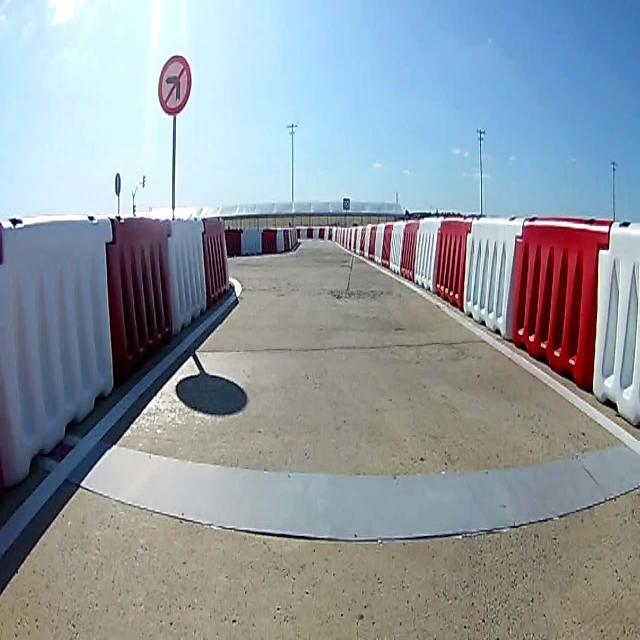soladonulmez: (156, 53, 192, 111)
